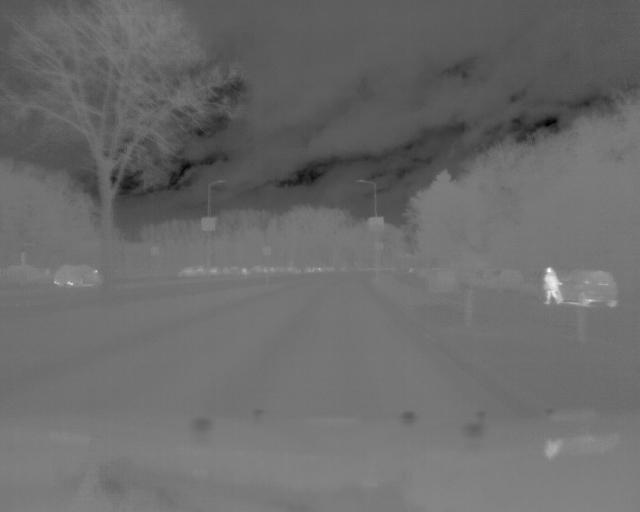car: (565, 263, 616, 310), (52, 260, 107, 294)
person: (534, 261, 563, 310)
